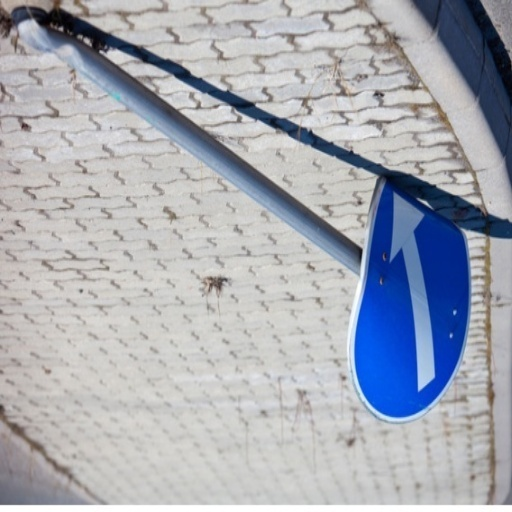Keep left: (341, 167, 478, 425)
